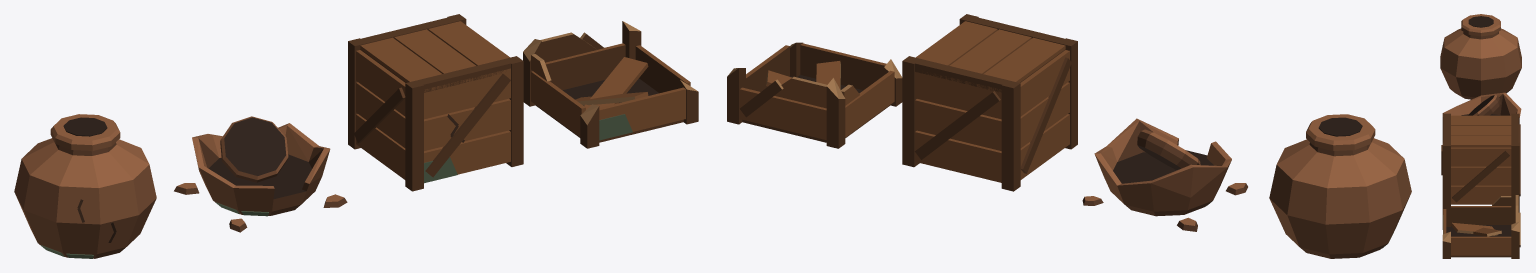
Rendered from MODEL-DESTRUCTIBLE.glb.
3 renders of one model, left to right at view 1: azimuth 30°, elevation 25°; view 2: azimuth 150°, elevation 25°; view 3: azimuth 270°, elevation 25°, orthographic. The views are drawn at different scales.
Parts seen in each view (by area): view 1: Crate_Intact, Jar_Intact, Crate_Broken_Base, Jar_Broken_Base, Jar_Broken_Rim, Crate_Broken_Plank_0, Crate_Broken_Plank_1; view 2: Crate_Intact, Jar_Intact, Crate_Broken_Base, Jar_Broken_Base, Jar_Broken_Rim, Crate_Broken_Plank_1; view 3: Crate_Intact, Jar_Intact, Crate_Broken_Base, Jar_Broken_Base, Jar_Broken_Rim, Crate_Broken_Plank_1, Crate_Broken_Plank_0.
Boxes of the visible parts, <box> form: Crate_Intact: <box>348,14,523,191</box>; Jar_Intact: <box>14,114,156,258</box>; Crate_Broken_Base: <box>523,21,698,148</box>; Jar_Broken_Base: <box>192,123,330,216</box>; Jar_Broken_Rim: <box>220,116,288,182</box>; Crate_Broken_Plank_0: <box>584,57,648,109</box>; Crate_Broken_Plank_1: <box>575,92,648,105</box>; Crate_Intact: <box>902,14,1077,191</box>; Jar_Intact: <box>1269,114,1411,258</box>; Crate_Broken_Base: <box>727,42,902,148</box>; Jar_Broken_Base: <box>1094,118,1231,216</box>; Jar_Broken_Rim: <box>1137,129,1200,170</box>; Crate_Broken_Plank_1: <box>816,61,840,89</box>; Crate_Intact: <box>1441,113,1520,207</box>; Jar_Intact: <box>1440,14,1521,99</box>; Crate_Broken_Base: <box>1442,192,1520,258</box>; Jar_Broken_Base: <box>1442,92,1521,117</box>; Jar_Broken_Rim: <box>1468,95,1500,115</box>; Crate_Broken_Plank_1: <box>1451,222,1497,235</box>; Crate_Broken_Plank_0: <box>1470,227,1501,236</box>.
Size of the model in its own units: 4.04 by 0.68 by 0.7432.
